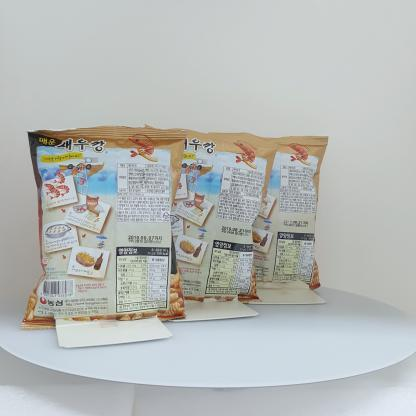Plastic Packaging: (24, 126, 186, 328), (178, 126, 258, 308), (254, 130, 326, 294)
